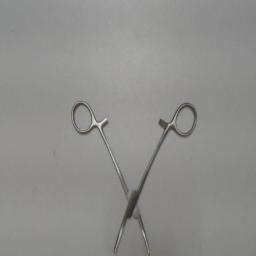Crile Artery Forceps: (68, 96, 200, 254)
